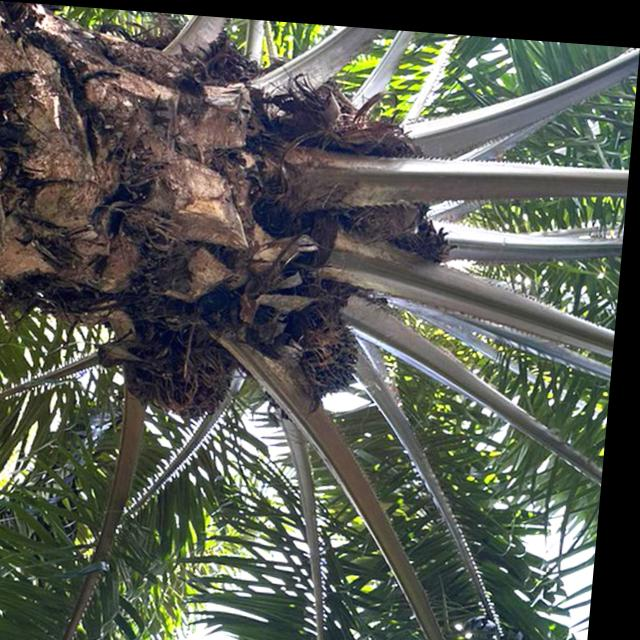unripe: (284, 294, 374, 408)
